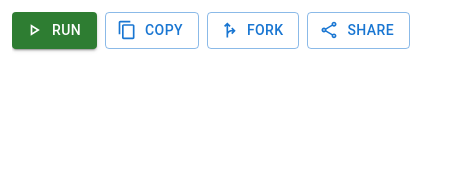
copies code and link with feedback
Step 1. Click the button with test id "copy-snippet-btn" → coordinates (152, 30), box [105, 12, 199, 48]
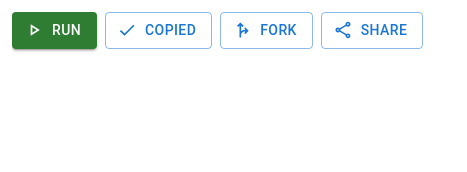
Check: the button "Copied" is shown, box [105, 12, 212, 48]
Step 2. Click the button with test id "share-snippet-btn" → coordinates (372, 30), box [321, 12, 423, 48]
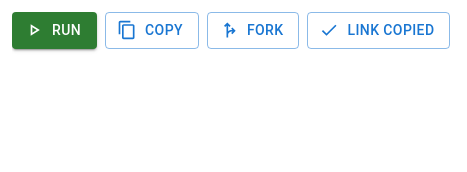
Check: the button "Link copied" is shown, box [308, 12, 450, 48]
